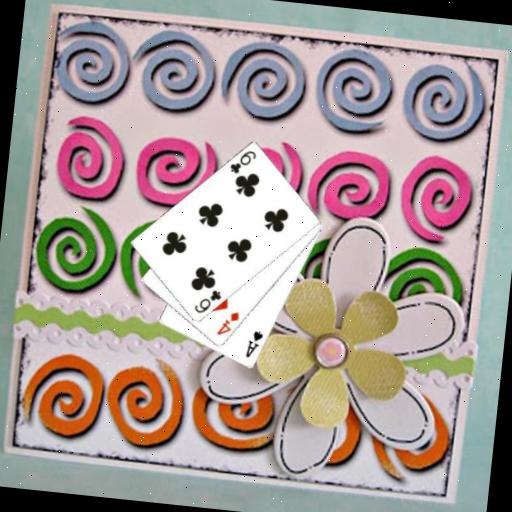4D: (214, 307, 242, 339)
6C: (191, 285, 224, 317), (226, 146, 258, 177)
AS: (243, 327, 266, 361)
